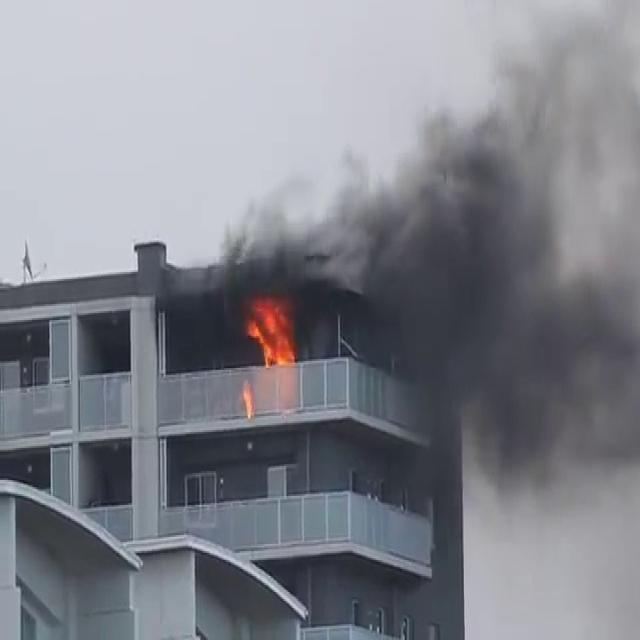Fire: (241, 292, 303, 369)
Smoke: (250, 14, 638, 524), (360, 8, 640, 543)
